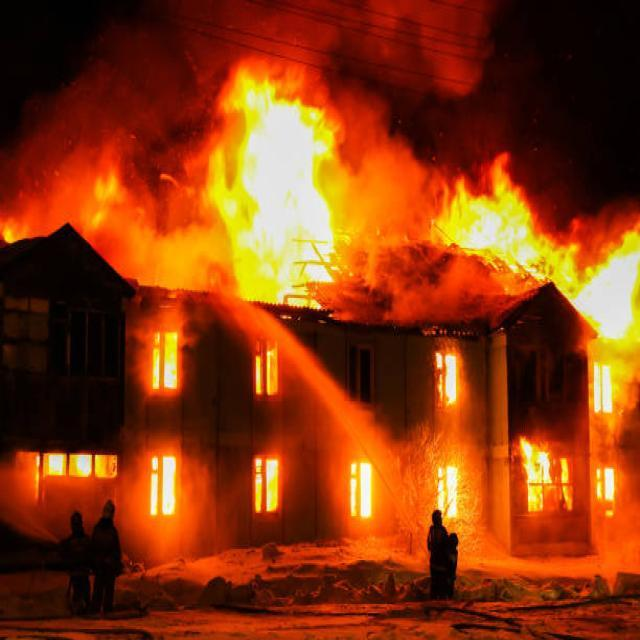Fire: (451, 162, 640, 373), (230, 90, 306, 257), (146, 334, 204, 426)
Smoke: (218, 0, 491, 254), (39, 21, 177, 271)
